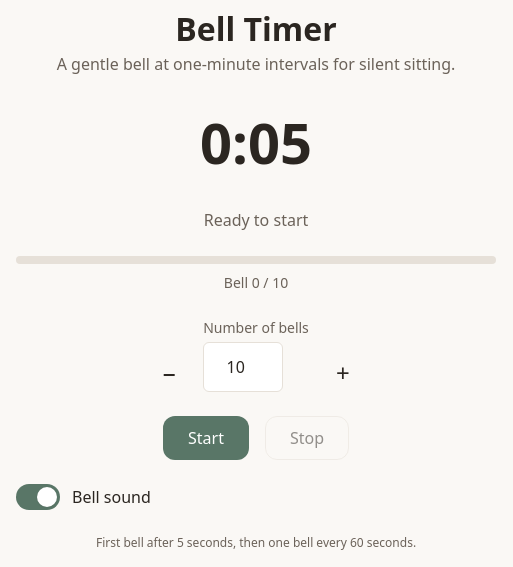
BellTimerPage › starts, pauses, resumes and stops the session
This screenshot has width=513, height=567.
Click the button "Start" at {"x": 206, "y": 438}, box [163, 416, 249, 460]
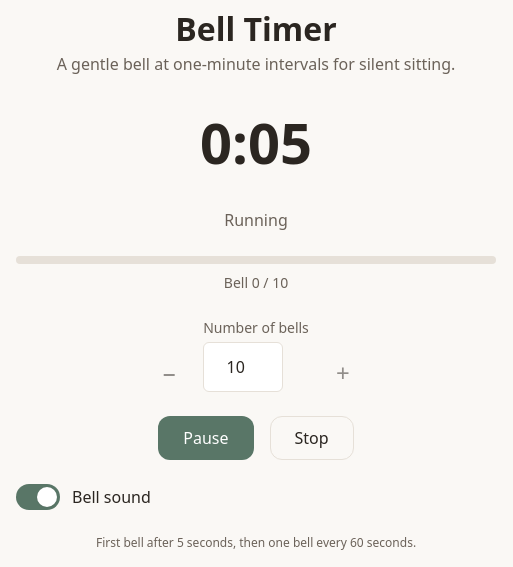
Now the text "Running" is shown, box [224, 209, 288, 231]
Click the button "Pause" at {"x": 206, "y": 438}, box [158, 416, 254, 460]
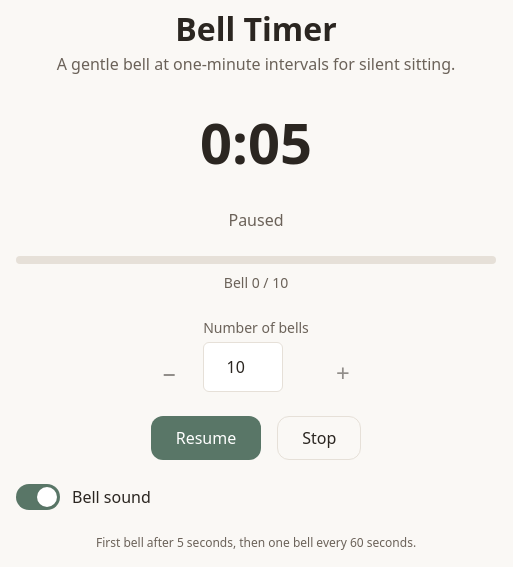
Now the text "Paused" is shown, box [228, 209, 284, 231]
Click the button "Resume" at {"x": 206, "y": 438}, box [151, 416, 261, 460]
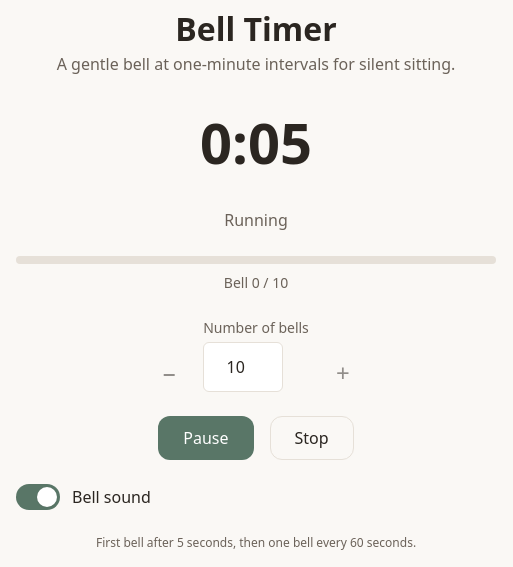
Now the text "Running" is shown, box [224, 209, 288, 231]
Click the button "Stop" at {"x": 312, "y": 438}, box [270, 416, 354, 460]
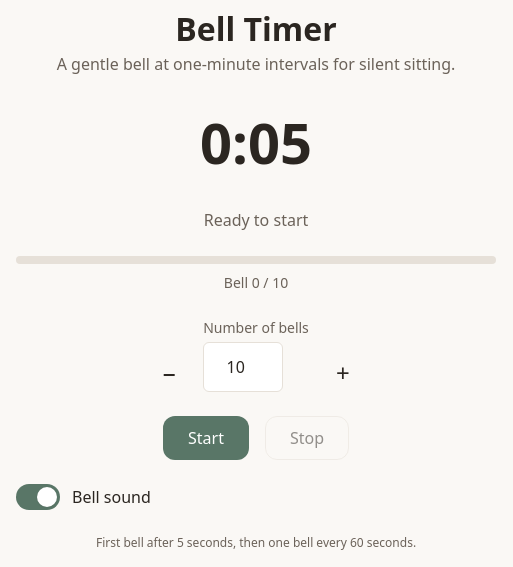
Expected: the text "Bell 0 / 10" is shown, [224, 273, 288, 292]
Now the text "Ready to start" is shown, box [204, 209, 308, 231]
